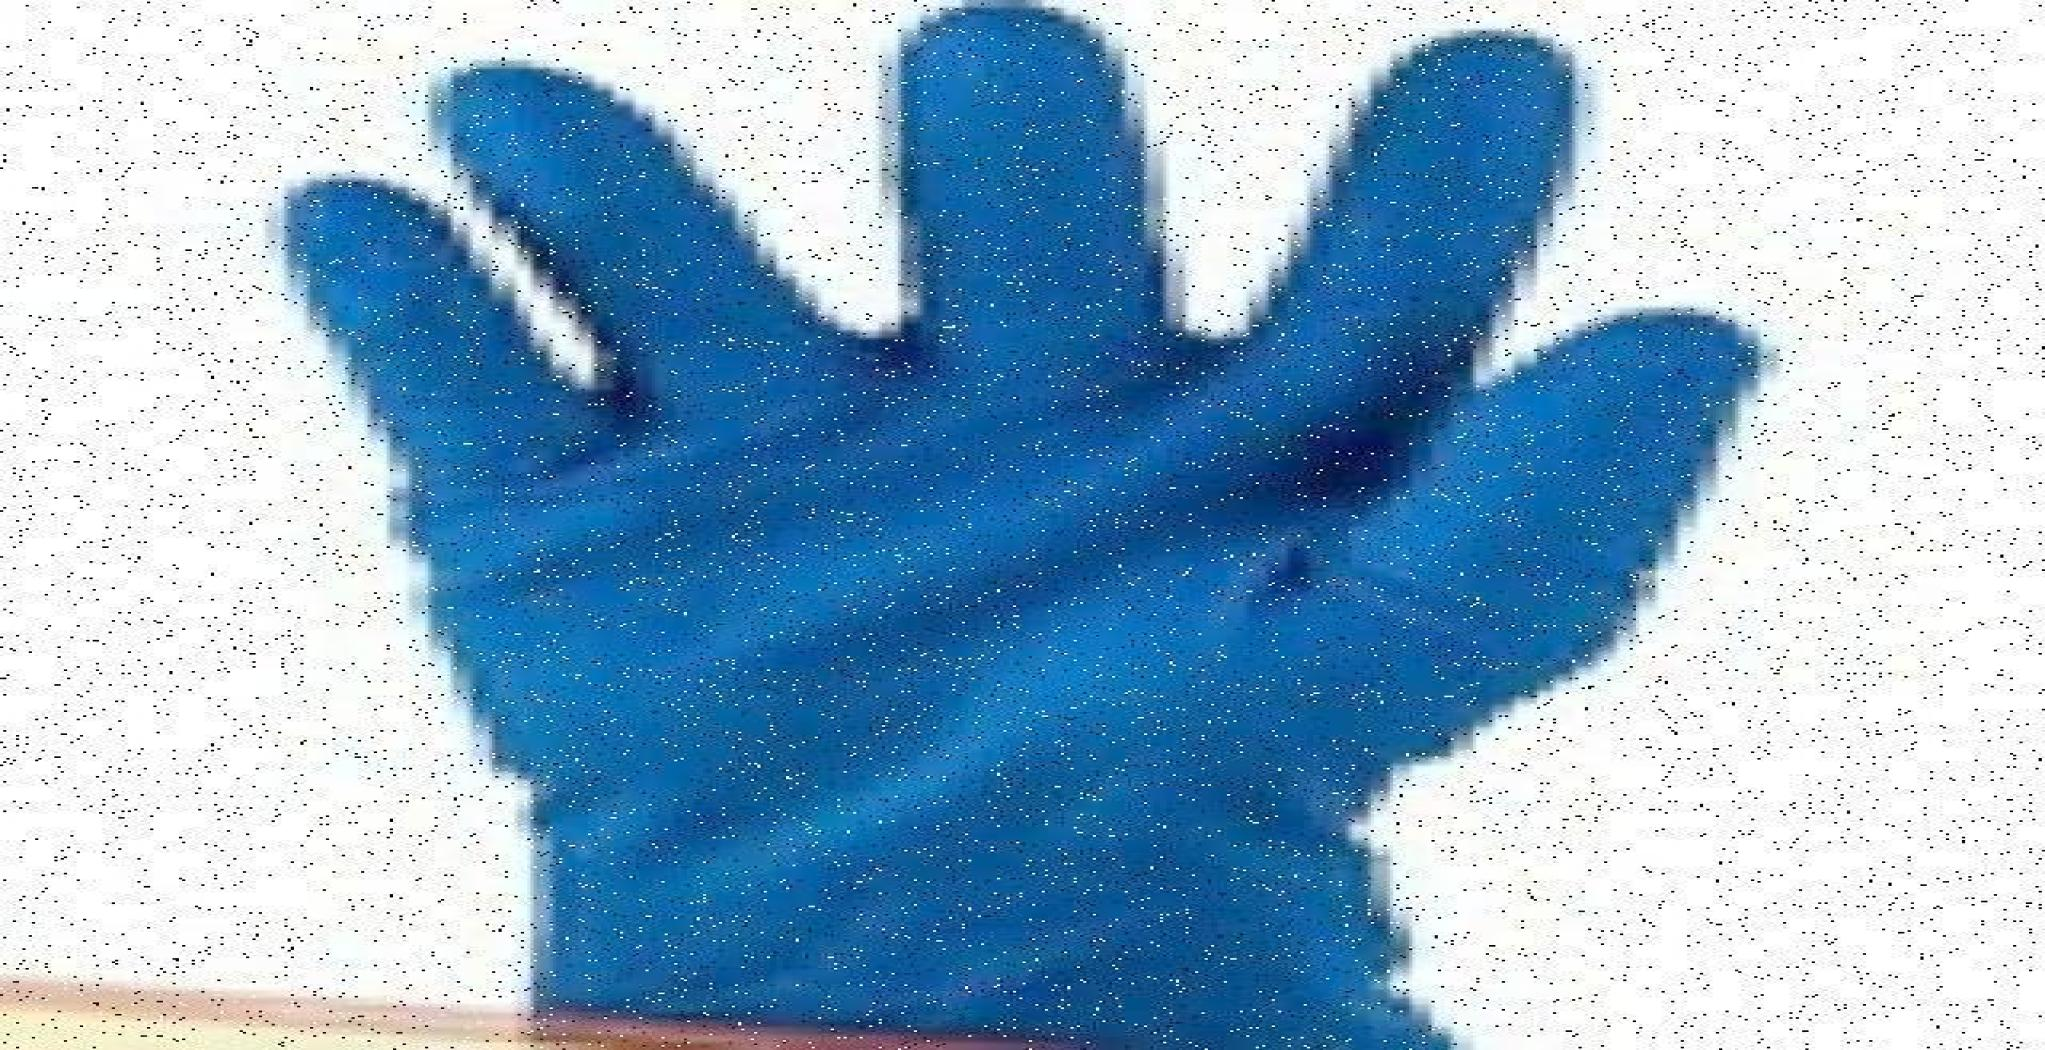gloved: (279, 7, 1761, 1049)
